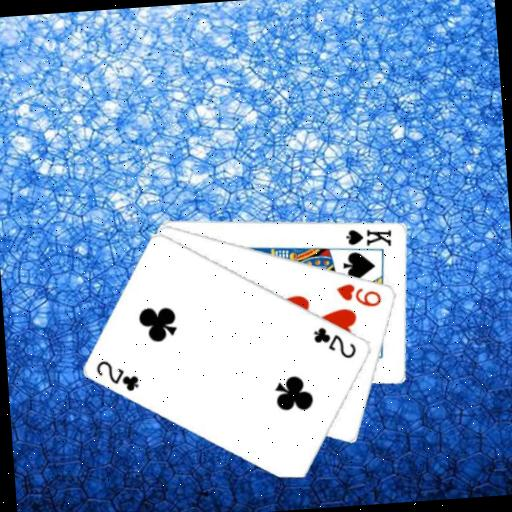2C: (310, 321, 359, 363), (93, 355, 142, 396)
9H: (334, 278, 385, 310)
KS: (343, 223, 395, 250)
